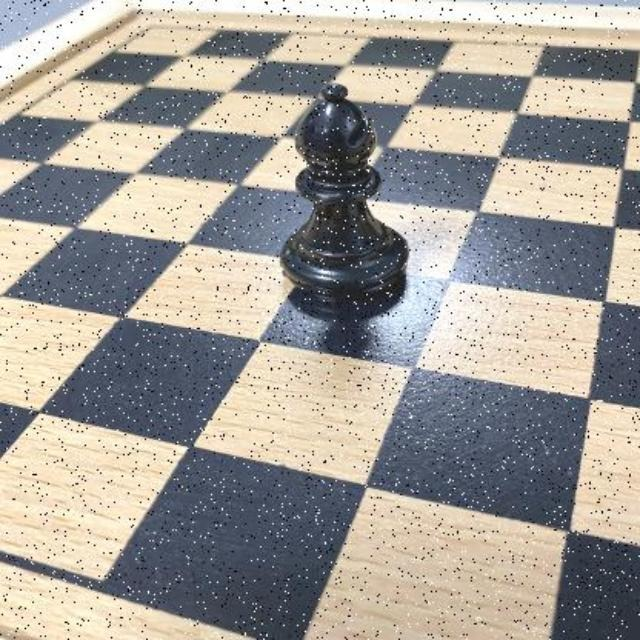black-bishop: (273, 84, 411, 305)
